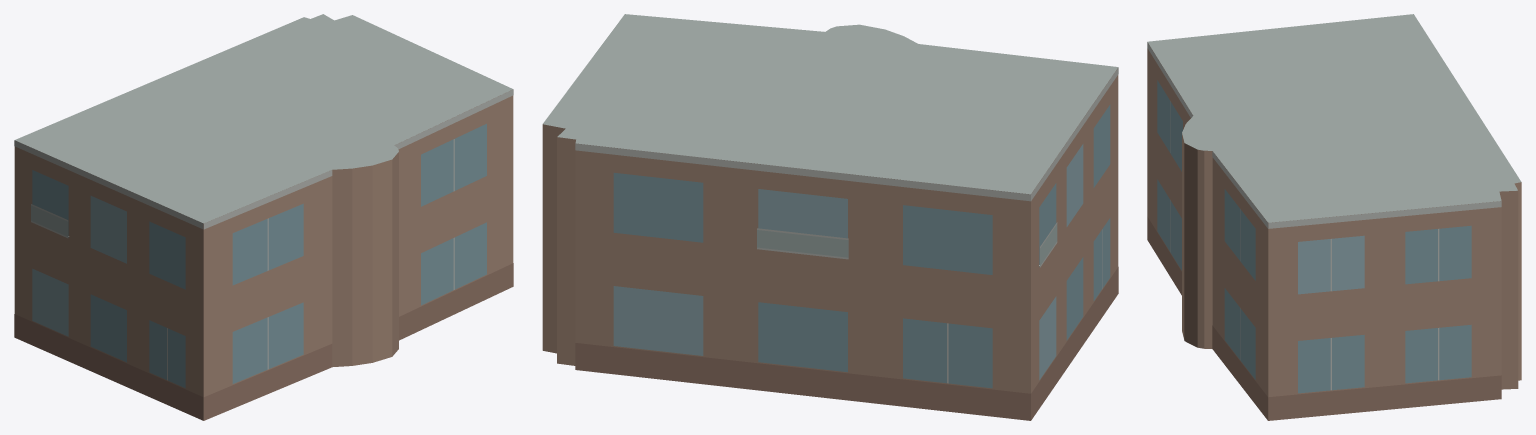
Rendered from survey-upis-32940587.glb.
3 views of the same model, side by side, from view 1: azimuth 30°, elevation 25°; view 2: azimuth 150°, elevation 25°; view 3: azimuth 270°, elevation 25° (orthographic). The views are drawn at different scales.
Visible parts, largest first — view 1: survey-upis-32940587.tmp; view 2: survey-upis-32940587.tmp; view 3: survey-upis-32940587.tmp.
Part boxes in pixels (<box>): survey-upis-32940587.tmp: <box>14,14,513,420</box>; survey-upis-32940587.tmp: <box>542,14,1118,420</box>; survey-upis-32940587.tmp: <box>1147,14,1521,420</box>.
Bounding box in the file's own units: 17.87 × 7.9 × 13.54.
